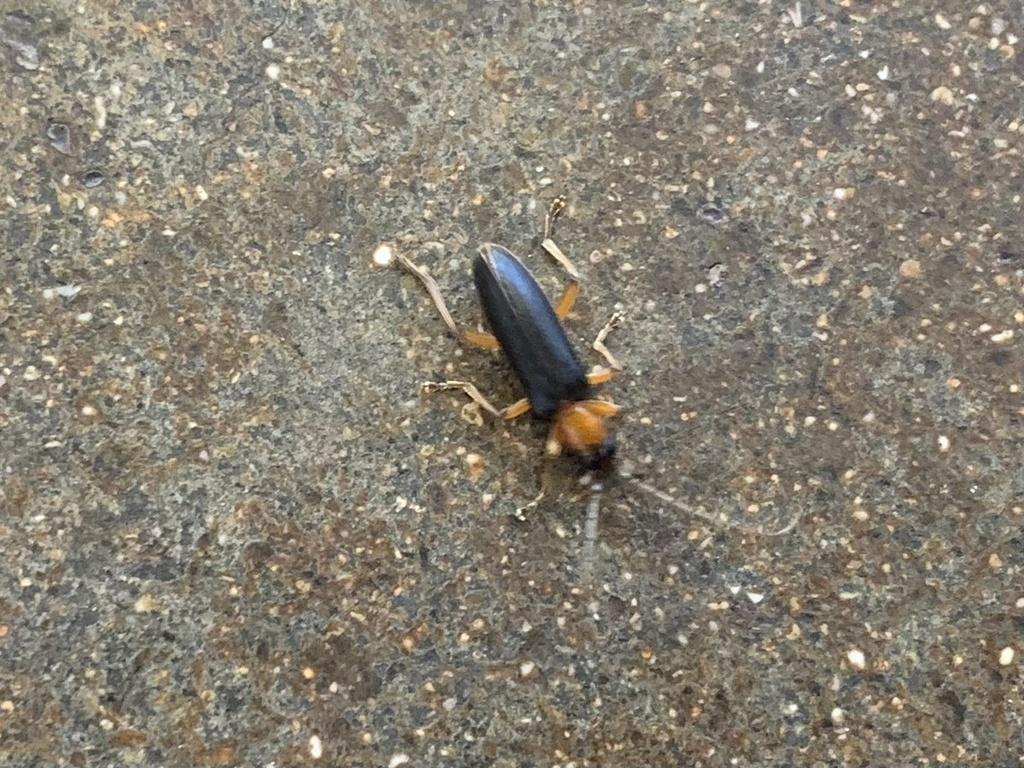blister_beetle: (336, 135, 824, 677)
